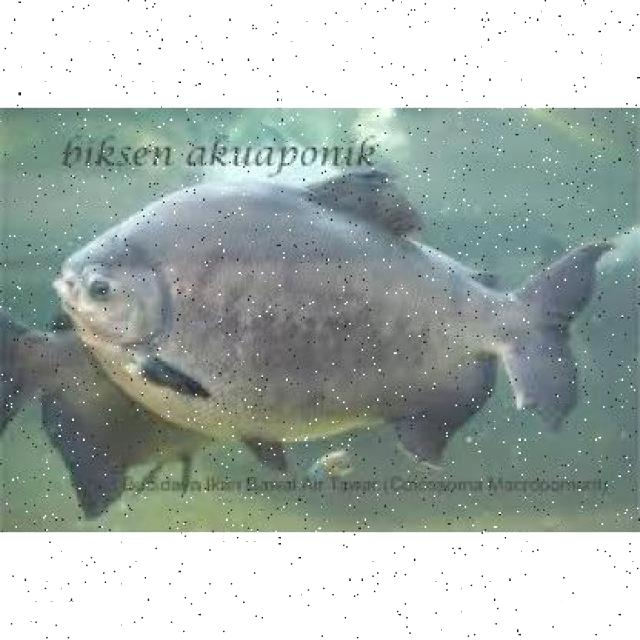ikan-pacu: (53, 176, 602, 442)
